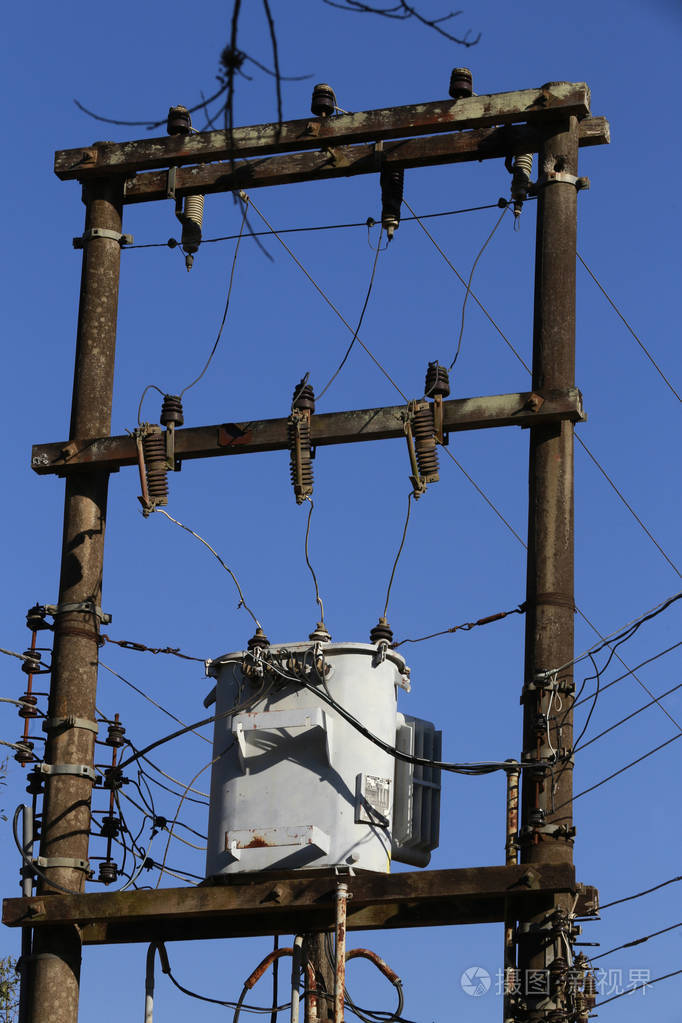insulator: (408, 410, 442, 479), (284, 422, 316, 493), (142, 435, 167, 498), (184, 193, 206, 248), (509, 154, 534, 200)
